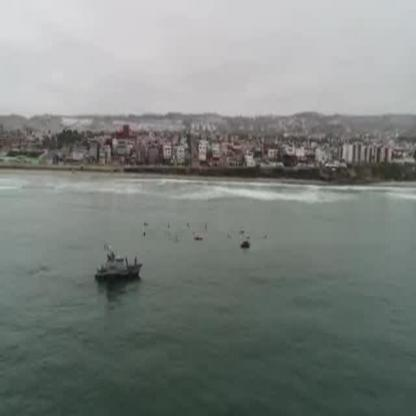Boat: (94, 245, 142, 292)
